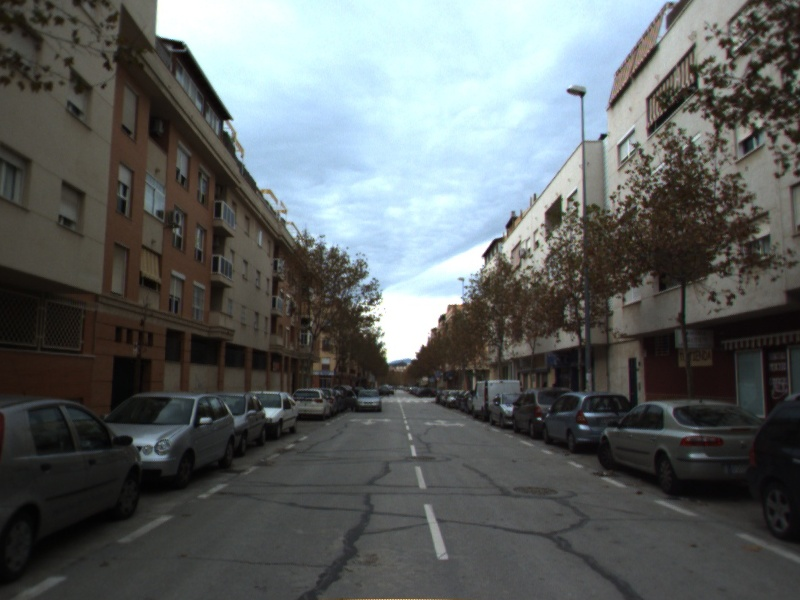STRAIGHT_LEFT_RIGHT: (422, 418, 468, 428)
